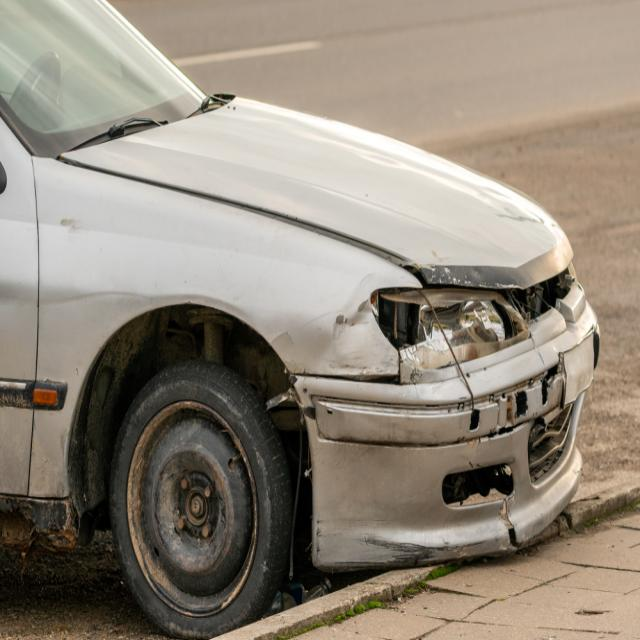crack: (500, 497, 524, 550)
dent: (311, 278, 371, 372)
lamp broken: (372, 287, 528, 368)
scratch: (315, 517, 477, 569)
